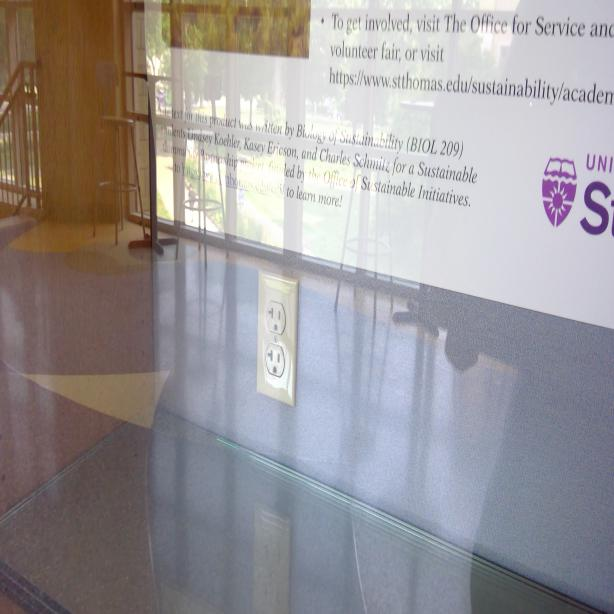typeb: (266, 339, 288, 384), (265, 298, 287, 334)
